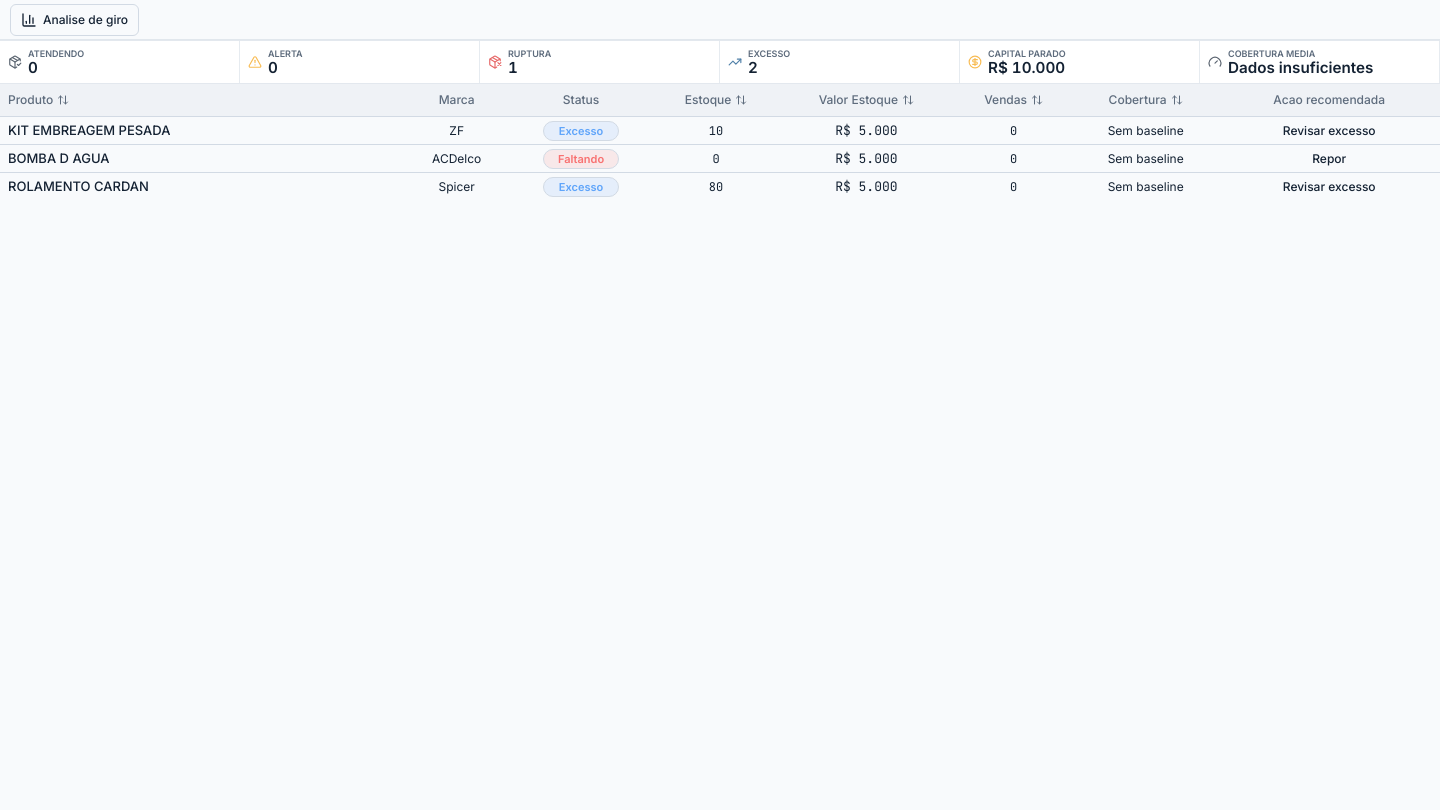
Test: GiroEstoqueTab › abre a analise com secoes gerenciais baseadas nos produtos
Click the button with aria-label "Abrir analise de giro": {"x": 75, "y": 20} [10,4,139,36]
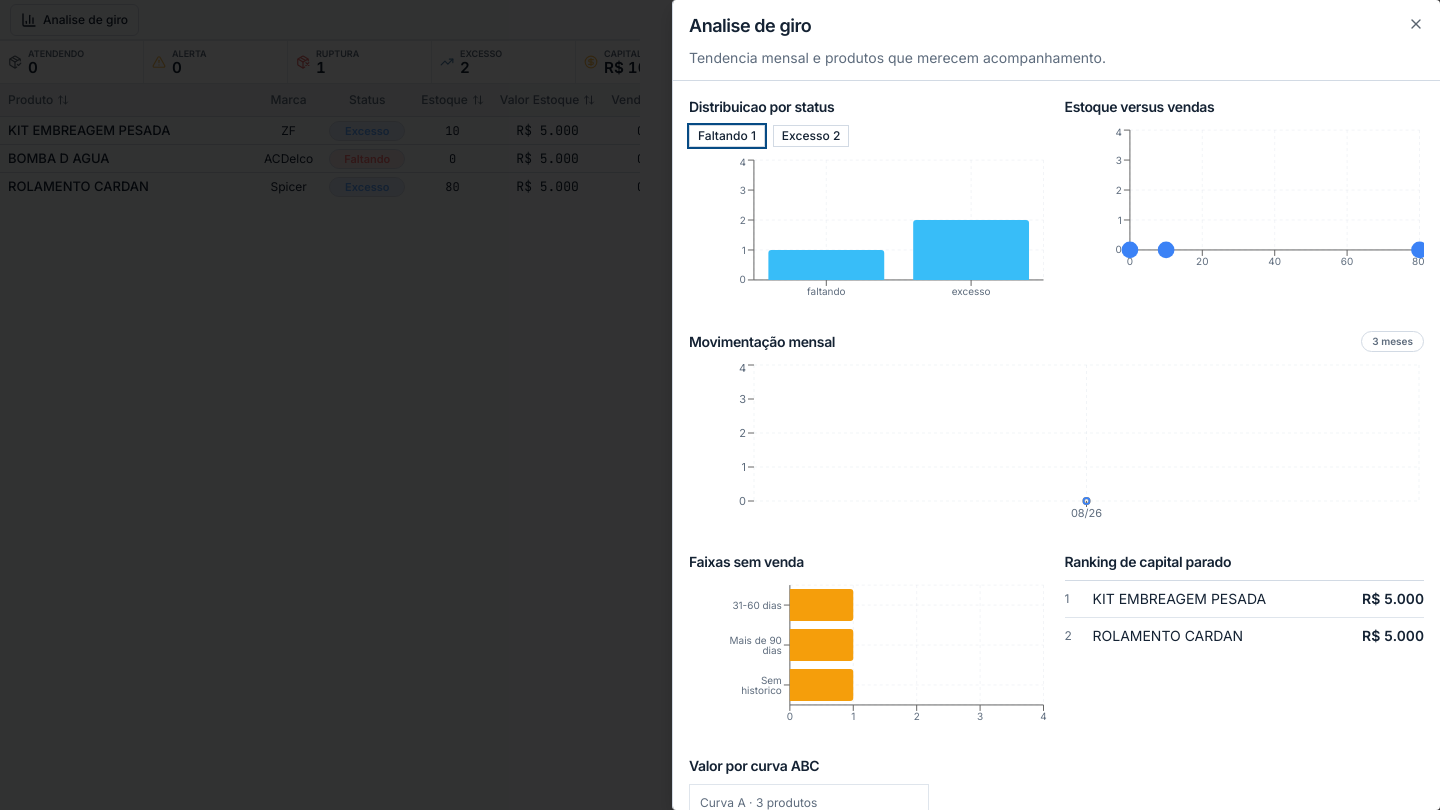
Now the heading "Distribuicao por status" is shown, box [689,98,834,115]
Now the heading "Estoque versus vendas" is shown, box [1064,98,1214,115]
Now the heading "Movimentação mensal" is shown, box [689,332,835,352]
